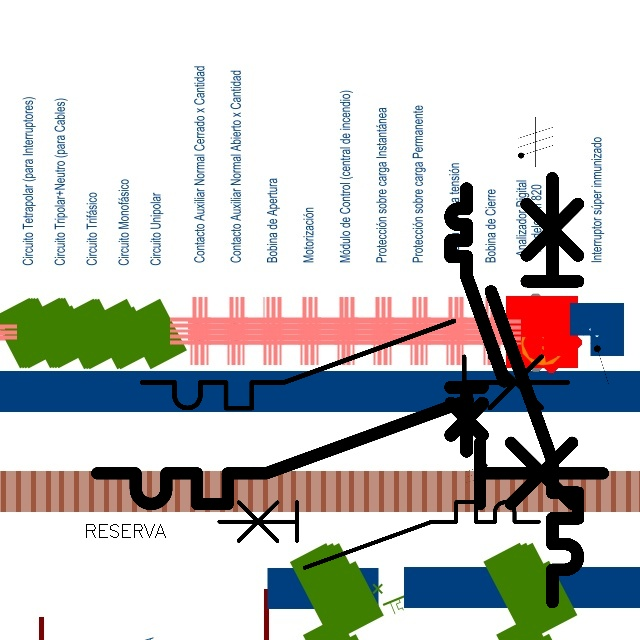interruptor_termomagnetico: (84, 387, 616, 517), (131, 310, 578, 419), (480, 167, 589, 612), (211, 494, 547, 576), (444, 182, 511, 458)
